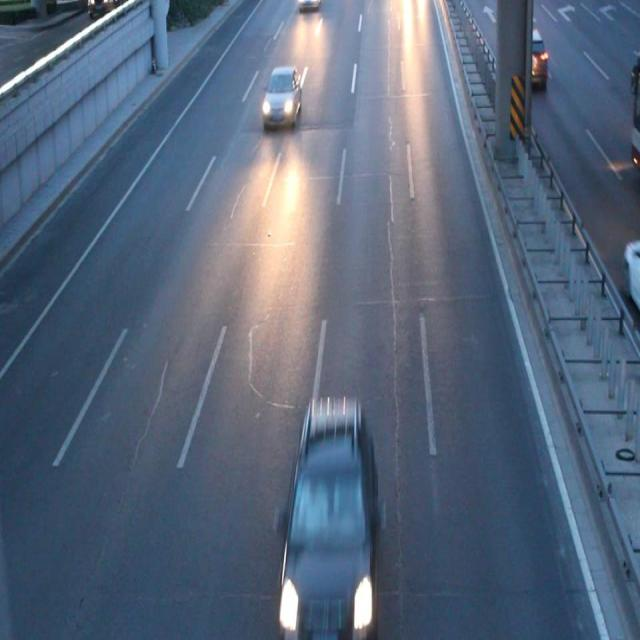car: (284, 399, 378, 633), (261, 63, 302, 124), (511, 26, 546, 85), (620, 237, 640, 310), (296, 1, 318, 10)
van: (628, 60, 640, 172)
